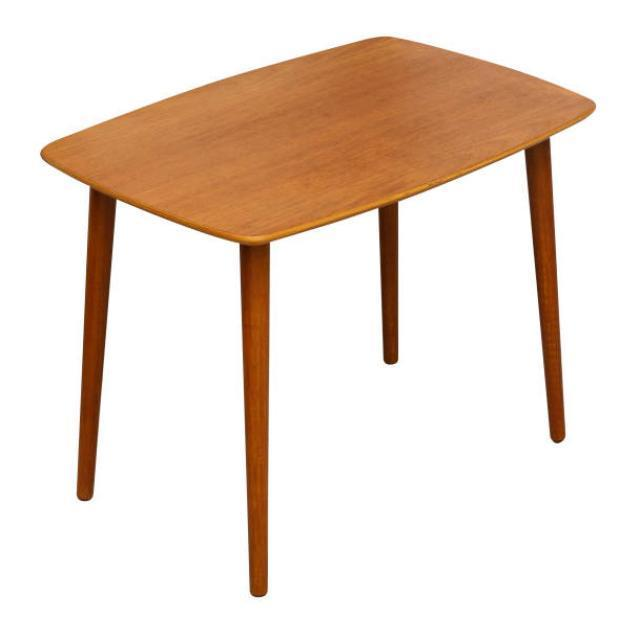table: (39, 34, 596, 598)
